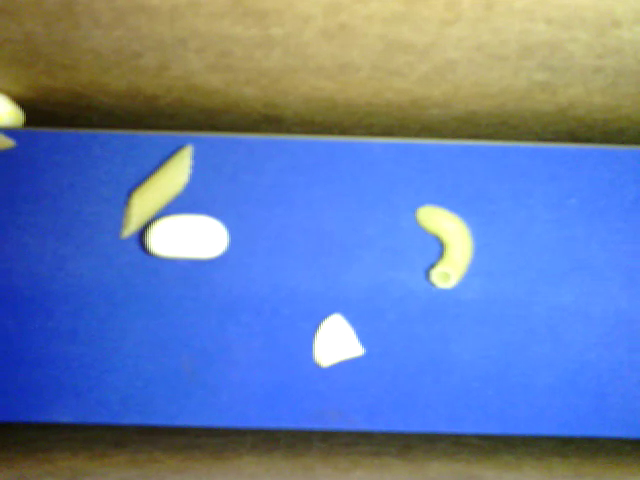elbow: (414, 203, 473, 288)
penne: (121, 143, 193, 238)
